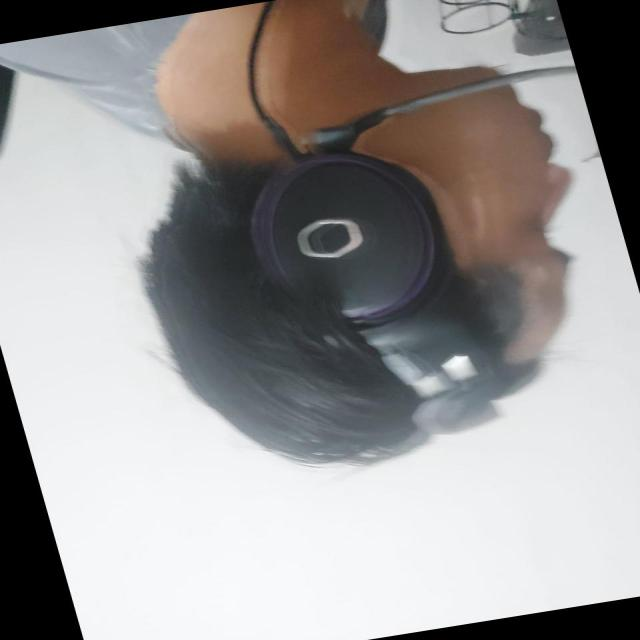earphone: (212, 71, 518, 445)
